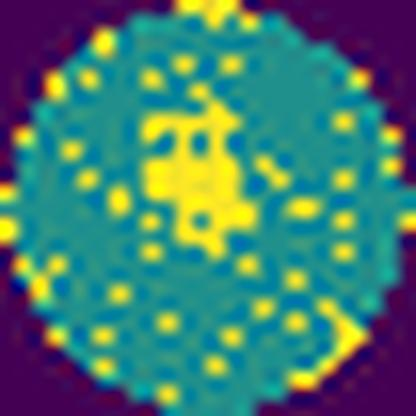Center: (145, 84, 261, 264)
